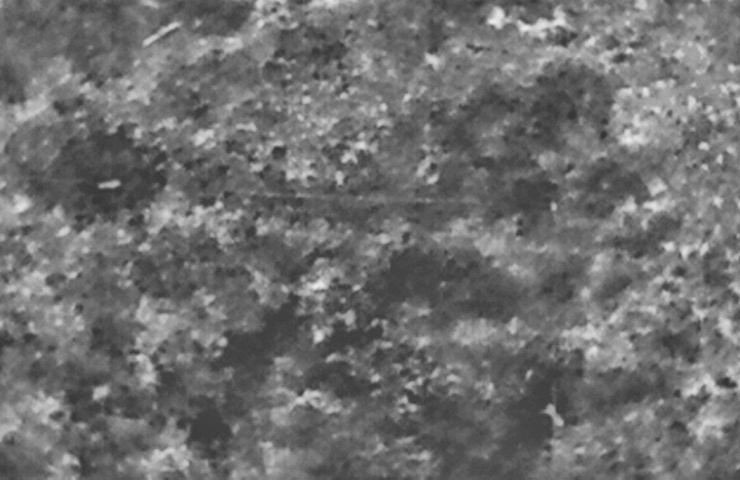landmines: (299, 263, 352, 303)
